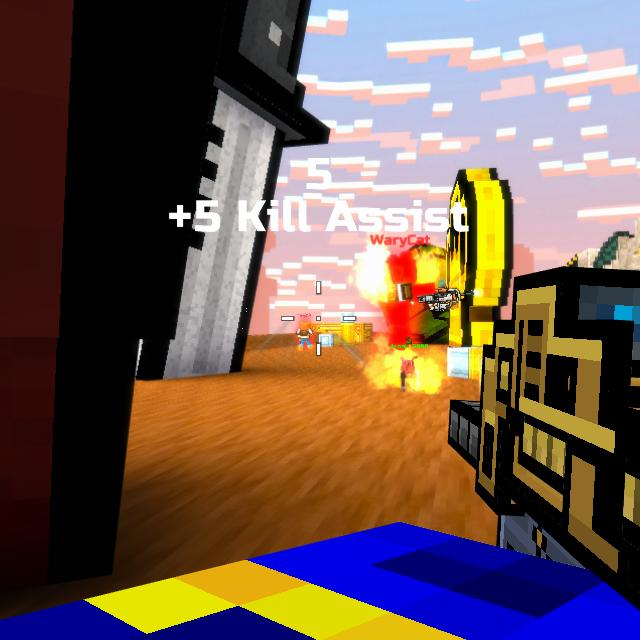Enemy: (385, 250, 435, 351)
